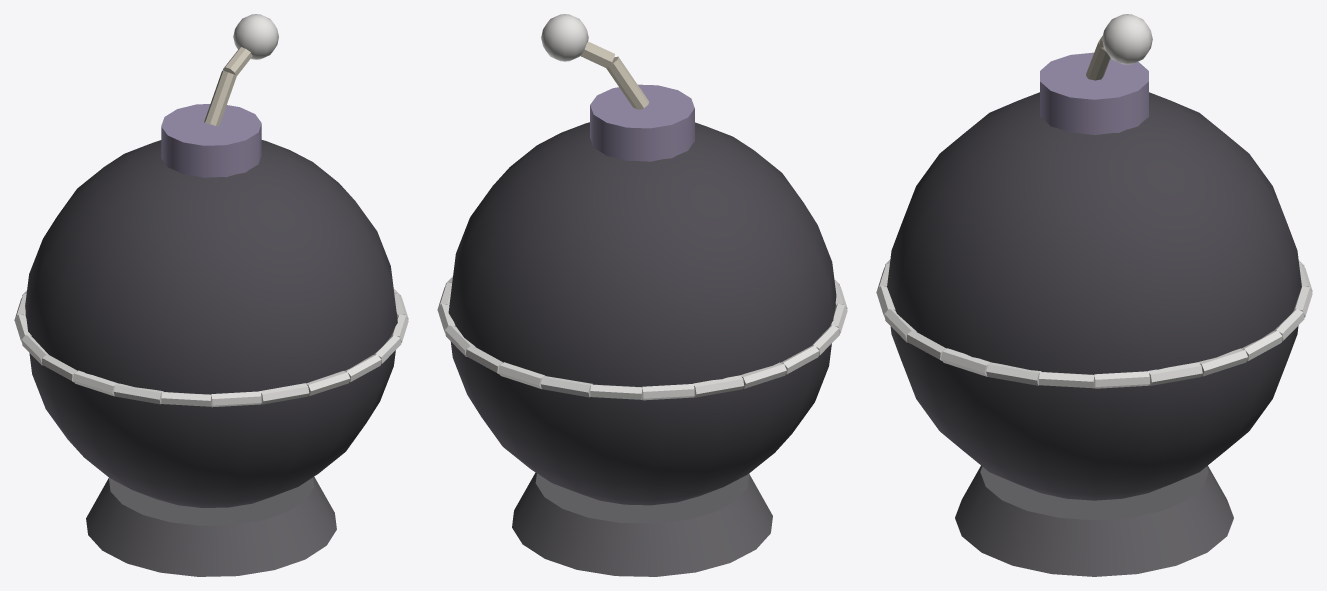
The model's file is perk_blast_proof.gltf.
3 renders of one model, left to right at view 1: azimuth 30°, elevation 25°; view 2: azimuth 150°, elevation 25°; view 3: azimuth 270°, elevation 25°, orthographic. The views are drawn at different scales.
Visible parts, largest first — view 1: Body, Glow; view 2: Body, Glow; view 3: Body, Glow.
Part boxes in pixels (box(x1,y1,x2,y2)): Body: box(25, 47, 397, 576); Glow: box(14, 14, 408, 407); Body: box(448, 41, 836, 576); Glow: box(437, 14, 847, 400); Body: box(887, 35, 1301, 576); Glow: box(876, 14, 1312, 388).
Size of the model in its own units: 1.71 by 2.32 by 1.72.
